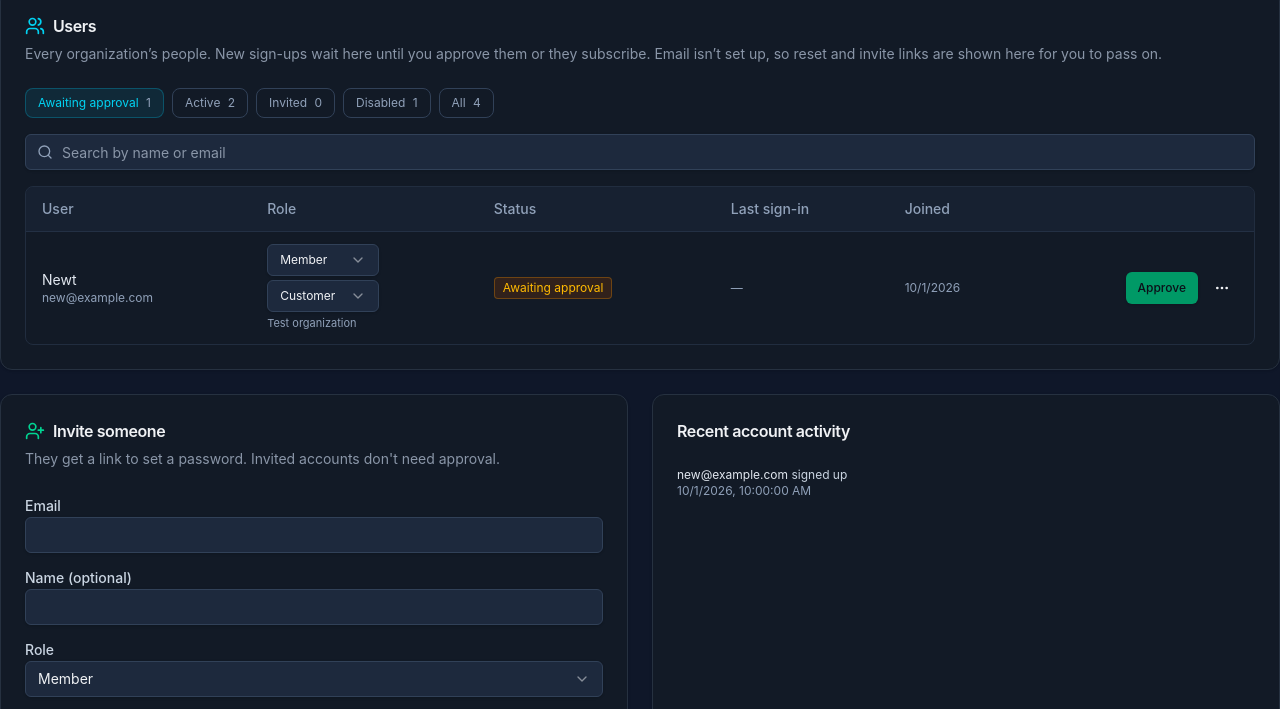
Test: UserManagement › shows an invite link once, to pass on when email is off
expect the table is shown: met, box [26, 187, 1254, 344]
Type "ivy@example.com" into the field labelled "Email". click: (314,535)
box: [25, 517, 603, 553]
(page scrolled)
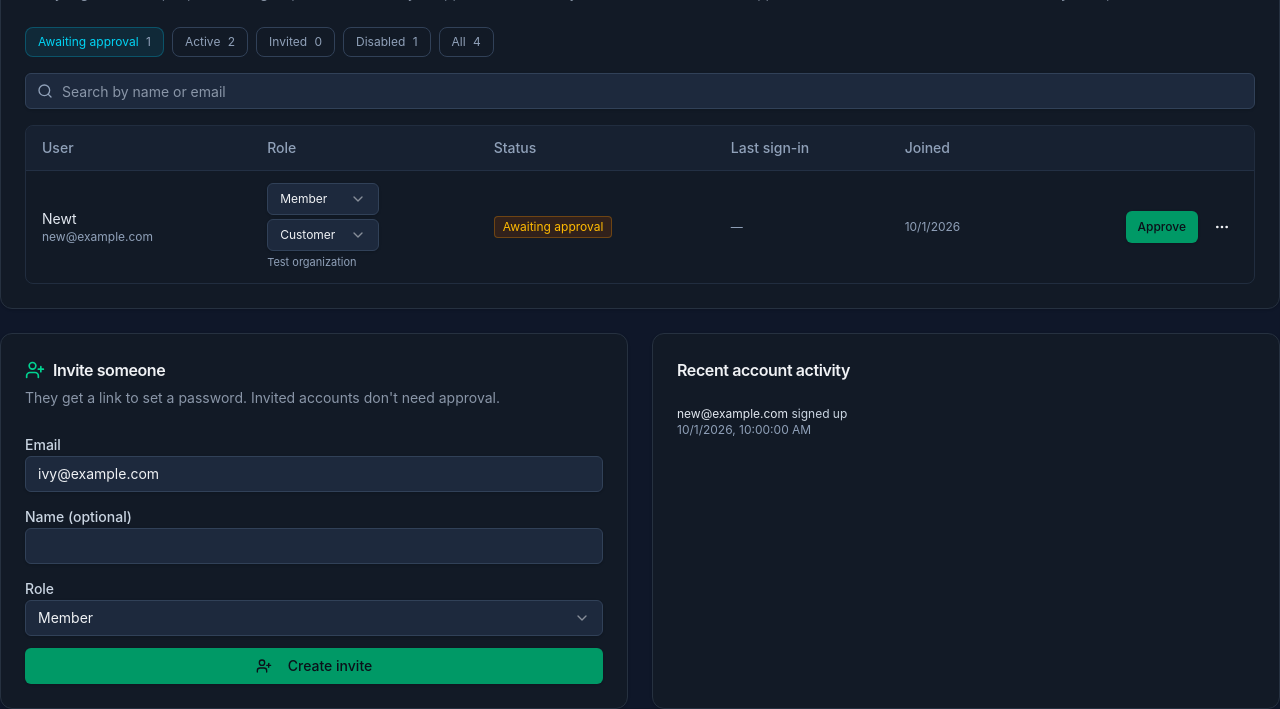
Click the button "Create invite". click: (314,666)
box: [25, 648, 603, 684]
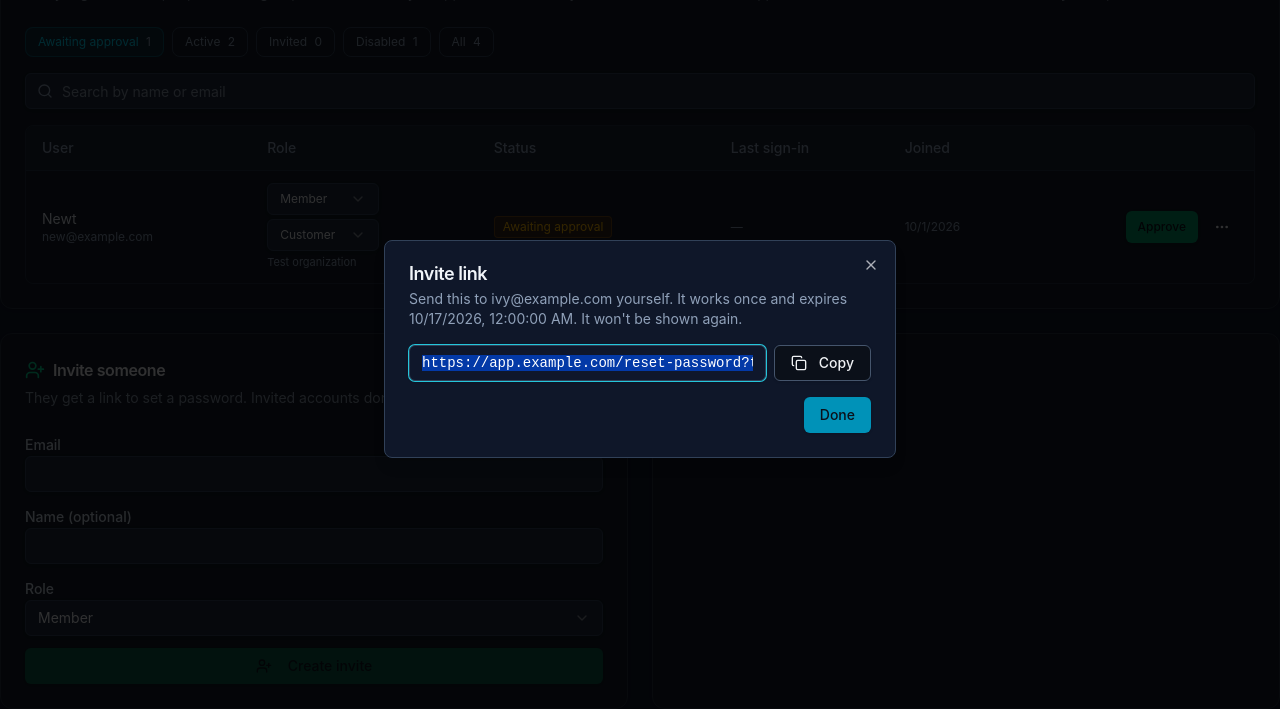
expect the field named "One-time link" holds "https://app.example.com/reset-password?token=abc": met, box [409, 345, 766, 381]
expect the text "Send this to ivy@example.com yourself" is shown: met, box [409, 290, 677, 307]
